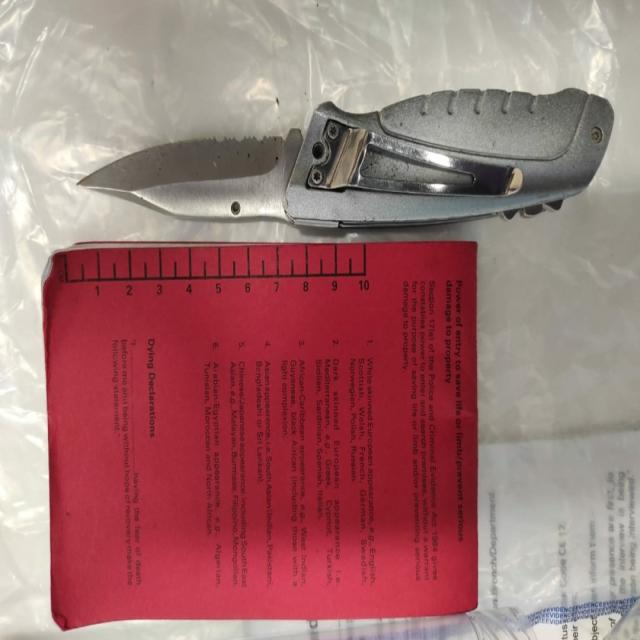Sharp-Object: (75, 87, 614, 232)
